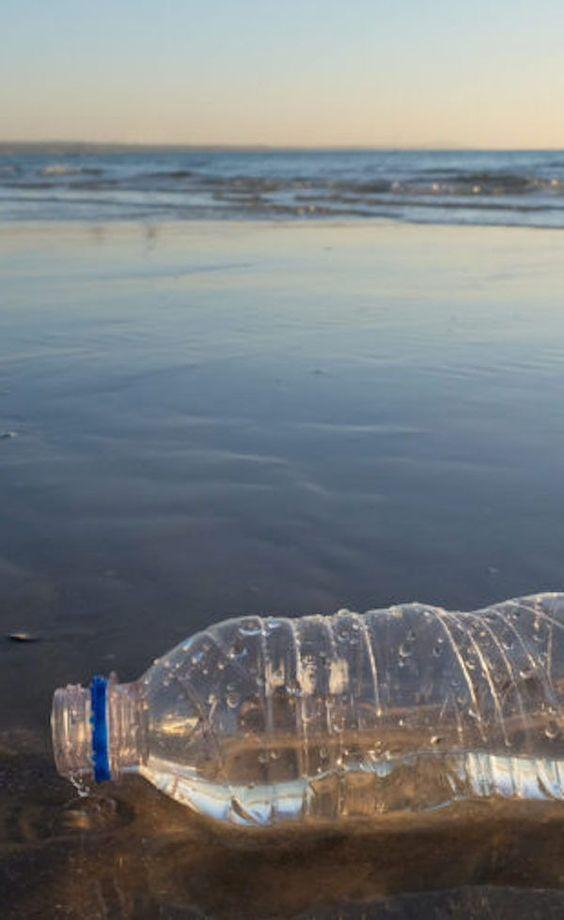HDPE: (89, 675, 112, 784)
PETE: (38, 580, 564, 840)
